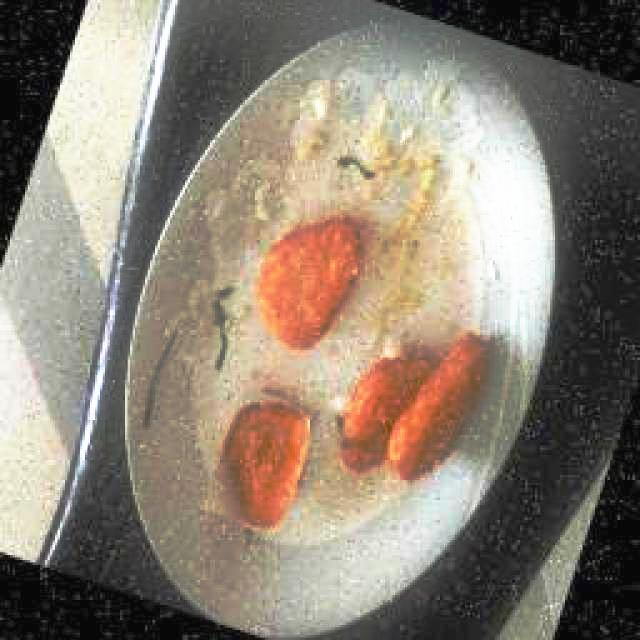Hashbrown: (392, 333, 486, 481), (261, 219, 361, 347), (344, 356, 431, 471), (226, 404, 308, 525)
